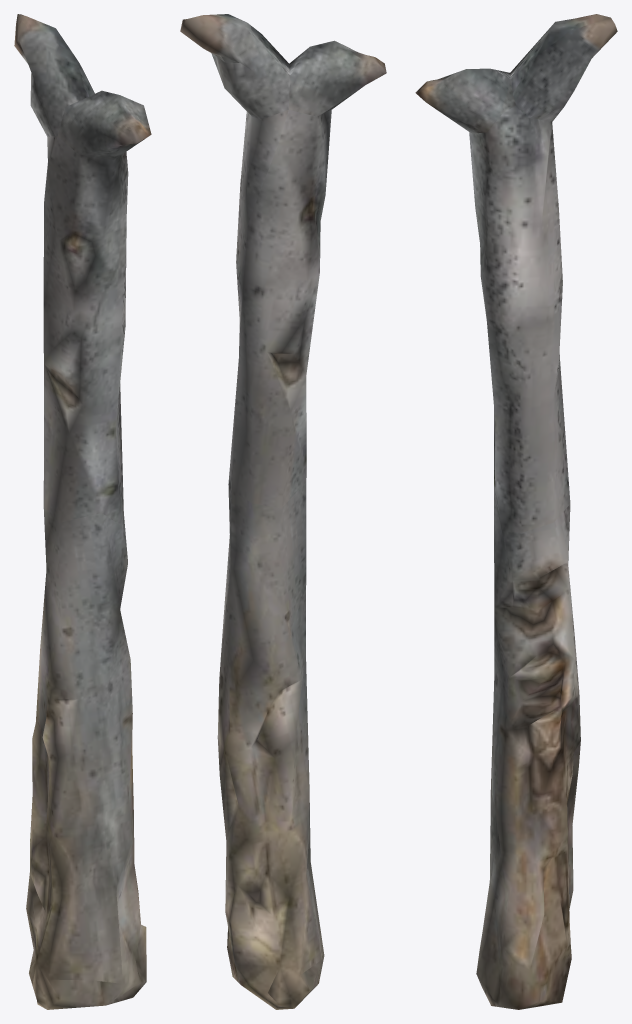
The model's file is dead_quiver_trunk_lod1.glb.
3 renders of one model, left to right at view 1: azimuth 90°, elevation 25°; view 2: azimuth 150°, elevation 25°; view 3: azimuth 330°, elevation 25°, orthographic. The views are drawn at different scales.
Parts seen in each view (by area): view 1: dead_quiver_trunk_LOD0; view 2: dead_quiver_trunk_LOD0; view 3: dead_quiver_trunk_LOD0.
Boxes of the visible parts, x1,y1,x2,y2 form: dead_quiver_trunk_LOD0: (14, 14, 151, 1009); dead_quiver_trunk_LOD0: (180, 14, 386, 1009); dead_quiver_trunk_LOD0: (415, 14, 617, 1009).
Bounding box in the file's own units: 0.3044 × 1.99 × 0.2567.
1 material, 1 textured.
